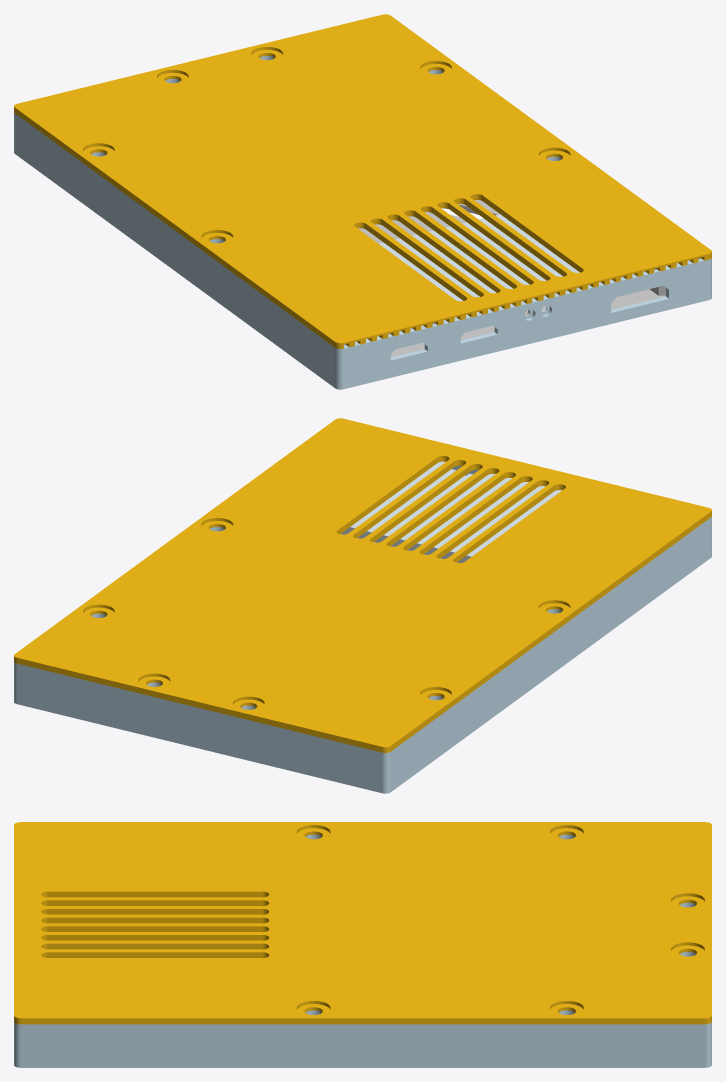
Rendered from RPI 02W Case.gltf.
The picture shows the model from 3 angles, top to bottom: view 1: azimuth 30°, elevation 25°; view 2: azimuth 150°, elevation 25°; view 3: azimuth 270°, elevation 25°; orthographic projection. The views are drawn at different scales.
Parts seen in each view (by area): view 1: Bottom, Frame, RPI 02W, Top, TopCircle; view 2: Bottom, Frame, RPI 02W; view 3: Bottom, Frame.
Part boxes in pixels (box(x1,y1,x2,y2)): Bottom: box(14, 14, 711, 348); Frame: box(14, 56, 711, 389); RPI 02W: box(344, 214, 689, 345); Top: box(378, 200, 665, 357); TopCircle: box(358, 212, 466, 243); Bottom: box(14, 418, 711, 752); Frame: box(14, 465, 711, 793); RPI 02W: box(341, 461, 561, 562); Bottom: box(14, 822, 711, 1024); Frame: box(14, 834, 711, 1067).
Bounding box in the file's own units: 0.0678 × 0.008 × 0.102.
